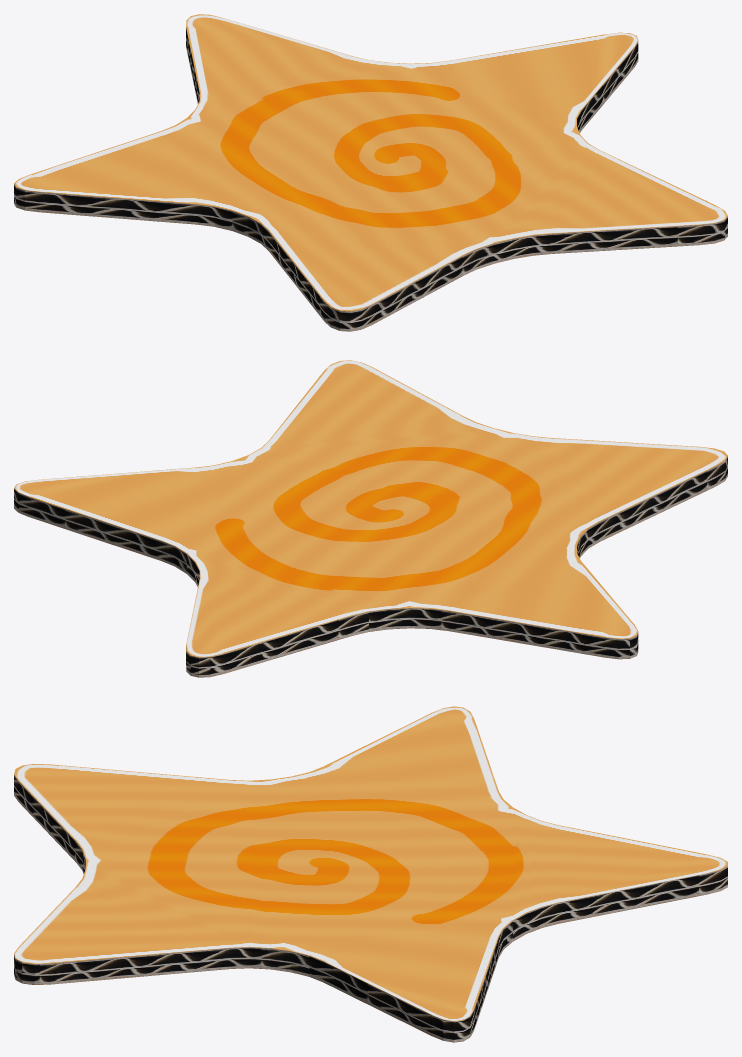
The model's file is Estrella.fbx.
3 renders of one model, top to bottom at view 1: azimuth 30°, elevation 25°; view 2: azimuth 150°, elevation 25°; view 3: azimuth 270°, elevation 25°, orthographic. The views are drawn at different scales.
Parts seen in each view (by area): view 1: Cylinder; view 2: Cylinder; view 3: Cylinder.
Boxes of the visible parts, x1,y1,x2,y2 form: Cylinder: (14,14,727,331); Cylinder: (14,360,727,677); Cylinder: (14,706,727,1042).
Bounding box in the file's own units: 177 × 5.51 × 169.
1 material, 1 textured.
